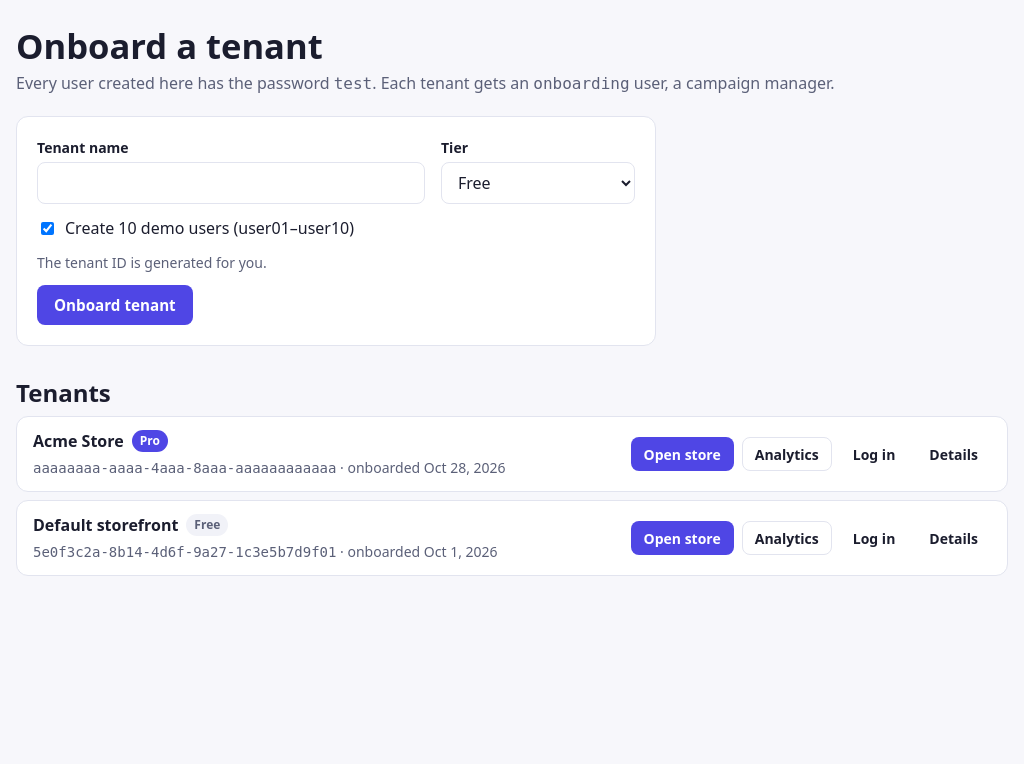
Test: a tenant's details › explains when the tenant has no onboarding user to sign in as
Click the button with aria-label "Details: Acme Store" at (954, 454), box [916, 437, 991, 471]
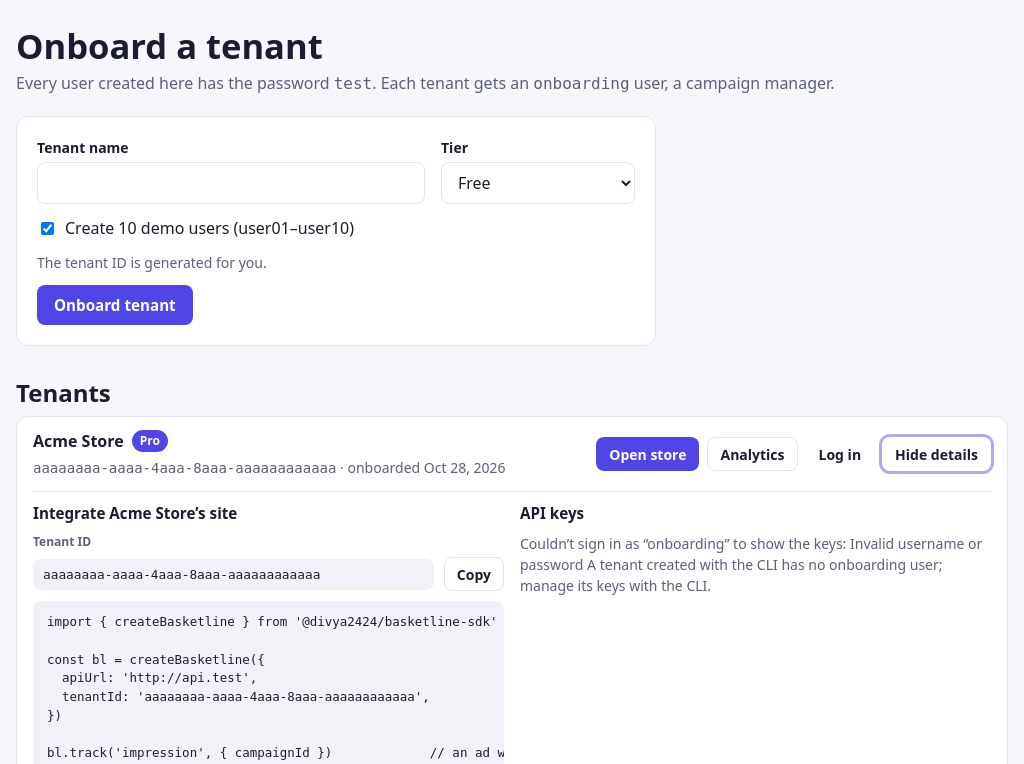
Result: the message shows "manage its keys with the CLI" at [520, 555, 942, 595]
